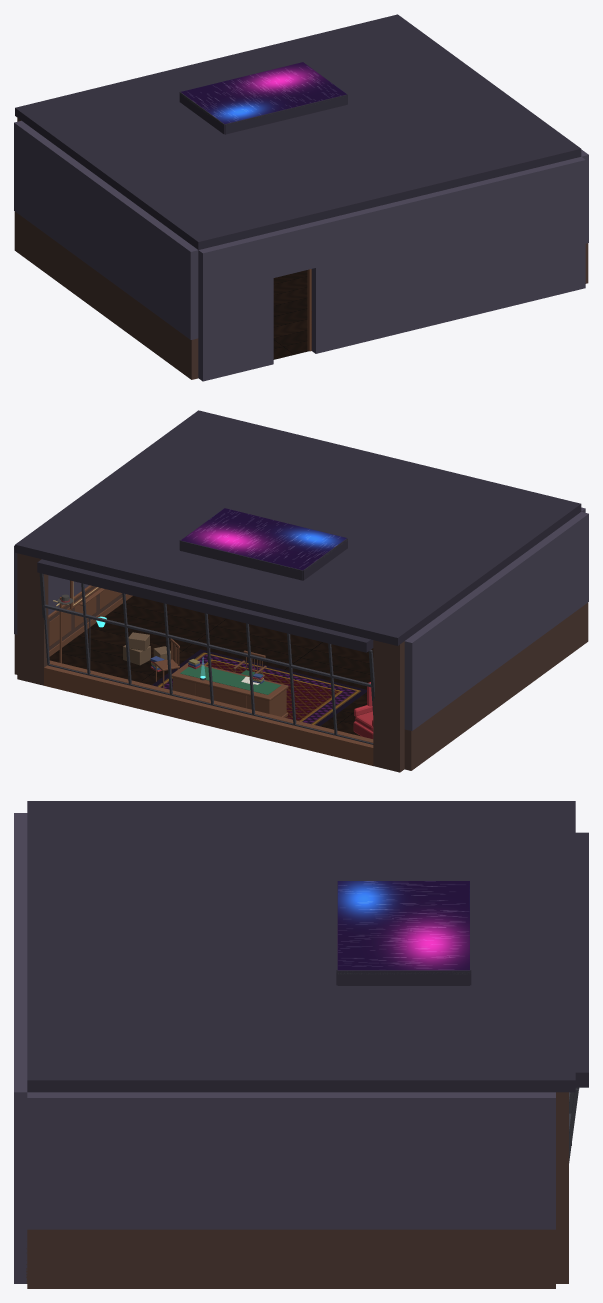
Rendered from oda-esyalar.glb.
3 views of the same model, one above another, from view 1: azimuth 30°, elevation 25°; view 2: azimuth 150°, elevation 25°; view 3: azimuth 270°, elevation 25° (orthographic). The views are drawn at different scales.
Parts seen in each view (by area): view 1: oda_tavan, oda_siva, oda_lambri, oda_gok, oda_zemin; view 2: oda_tavan, oda_siva, oda_lambri, oda_maun, oda_zemin, oda_gok, oda_metal, oda_hali, oda_deri_yesil, oda_karton, oda_deri_kirmizi; view 3: oda_tavan, oda_siva, oda_lambri, oda_gok.
Boxes of the visible parts, x1,y1,x2,y2 form: oda_tavan: (15, 14, 581, 249); oda_siva: (14, 120, 588, 381); oda_lambri: (14, 118, 588, 379); oda_gok: (181, 62, 346, 123); oda_zemin: (273, 270, 309, 359); oda_tavan: (15, 410, 581, 652); oda_siva: (14, 507, 588, 730); oda_lambri: (14, 553, 588, 772); oda_maun: (44, 580, 373, 765); oda_zemin: (49, 596, 373, 736); oda_gok: (181, 508, 346, 570); oda_metal: (39, 540, 374, 744); oda_hali: (152, 649, 366, 726); oda_deri_yesil: (180, 665, 280, 694); oda_karton: (123, 632, 170, 665); oda_deri_kirmizi: (353, 682, 373, 738); oda_tavan: (27, 801, 588, 1092); oda_siva: (14, 813, 555, 1283); oda_lambri: (26, 1092, 568, 1288); oda_gok: (337, 881, 469, 970).
Bounding box in the file's own units: 10.4 × 3.66 × 8.7.
21 materials, 3 textured.
